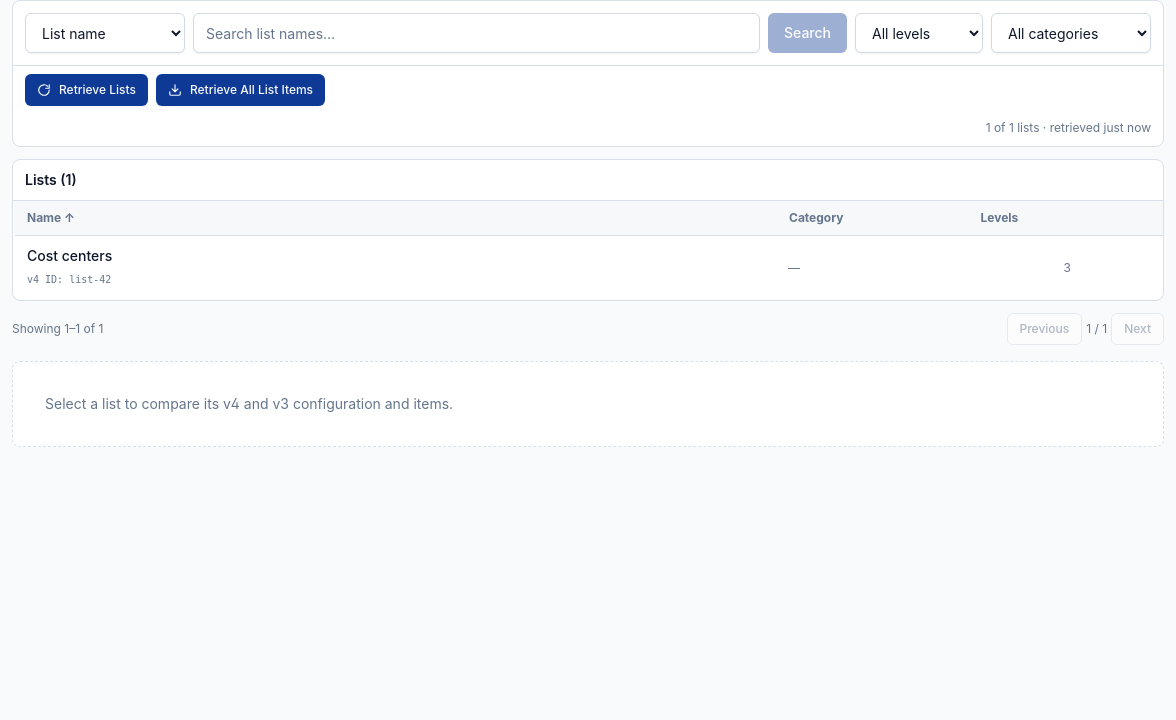
Scenario: ListsView table actions › reports that already-complete lists were left alone
Click the button "Retrieve All List Items" at (241,90), box left=156, top=74, right=325, bottom=106
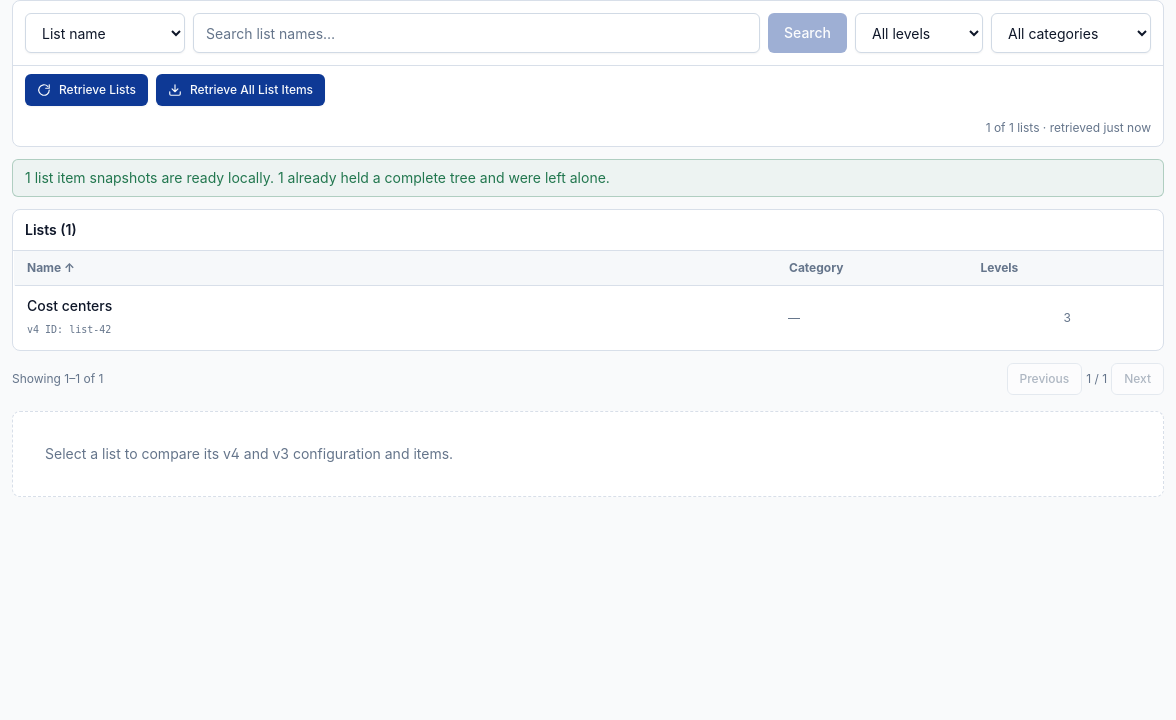
Check: the text "1 already held a complete tree and were left alone." is shown, box left=25, top=169, right=610, bottom=186
